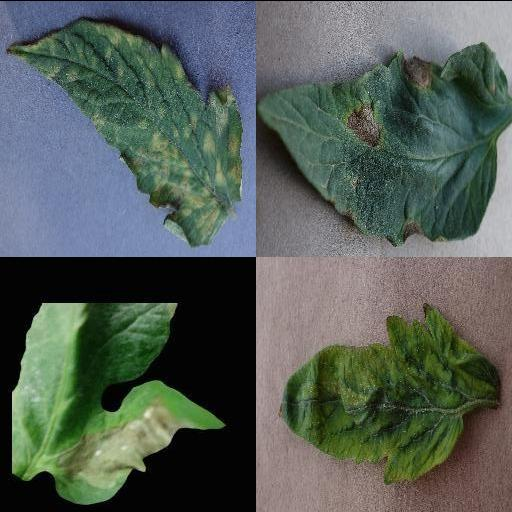Early Blight: (258, 42, 512, 246)
Late Blight: (13, 303, 229, 503)
Leaf Mold: (7, 17, 243, 246)
Yellow Leaf Curl Virus: (277, 302, 499, 486)
